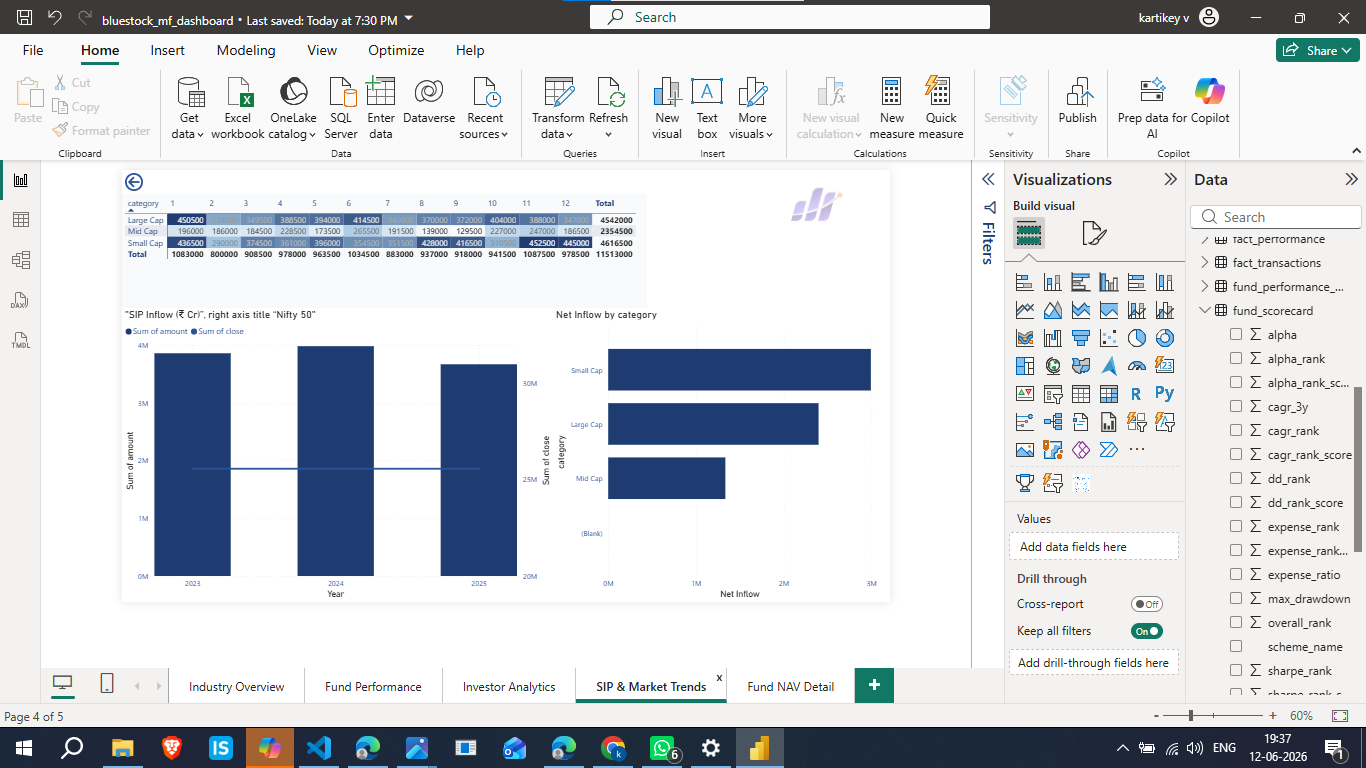

The page's visual inventory and layout, read from the dashboard file:
{"tool":"powerbi","page":{"name":"SIP & Market Trends","canvas":[1280,720],"ordinal":3},"visuals":[{"type":"lineStackedColumnComboChart","title":"\"SIP Inflow (₹ Cr)”, right axis title “Nifty 50\"","fields":{"Category":["dim_date.full_date.Variation.Date Hierarchy.Year","dim_date.full_date.Variation.Date Hierarchy.Quarter","dim_date.full_date.Variation.Date Hierarchy.Month","dim_date.full_date.Variation.Date Hierarchy.Day"],"Y":["Sum(fact_transactions.amount)"],"Y2":["Sum(Sheet1.close)"]},"box":[0,230,718.3,490],"z":0},{"type":"pivotTable","fields":{"Rows":["dim_fund.category"],"Columns":["dim_date.year","dim_date.month"],"Values":["Sum(fact_transactions.amount)"]},"box":[0,40,875,190],"z":1},{"type":"barChart","fields":{"Category":["dim_fund.category"],"Y":["Sheet1.Net Inflow"]},"box":[718.3,230,545,490],"z":2},{"type":"actionButton","box":[0,0,100,40],"z":3},{"type":"image","box":[1065,0,185,115],"z":4}]}

Visuals, with their boxes on the page's 1280x720 design canvas (x1, y1, x2, y2). These are canvas units, not pixel positions in the 1366x768 screenshot, which may show the page scaled, cropped or inside an application window:
""SIP Inflow (₹ Cr)”, right axis title “Nifty 50"" lineStackedColumnComboChart: (x1=0, y1=230, x2=718, y2=720)
pivotTable - dim_fund.category x dim_date.year: (x1=0, y1=40, x2=875, y2=230)
barChart - dim_fund.category x Sheet1.Net Inflow: (x1=718, y1=230, x2=1263, y2=720)
actionButton: (x1=0, y1=0, x2=100, y2=40)
image: (x1=1065, y1=0, x2=1250, y2=115)
